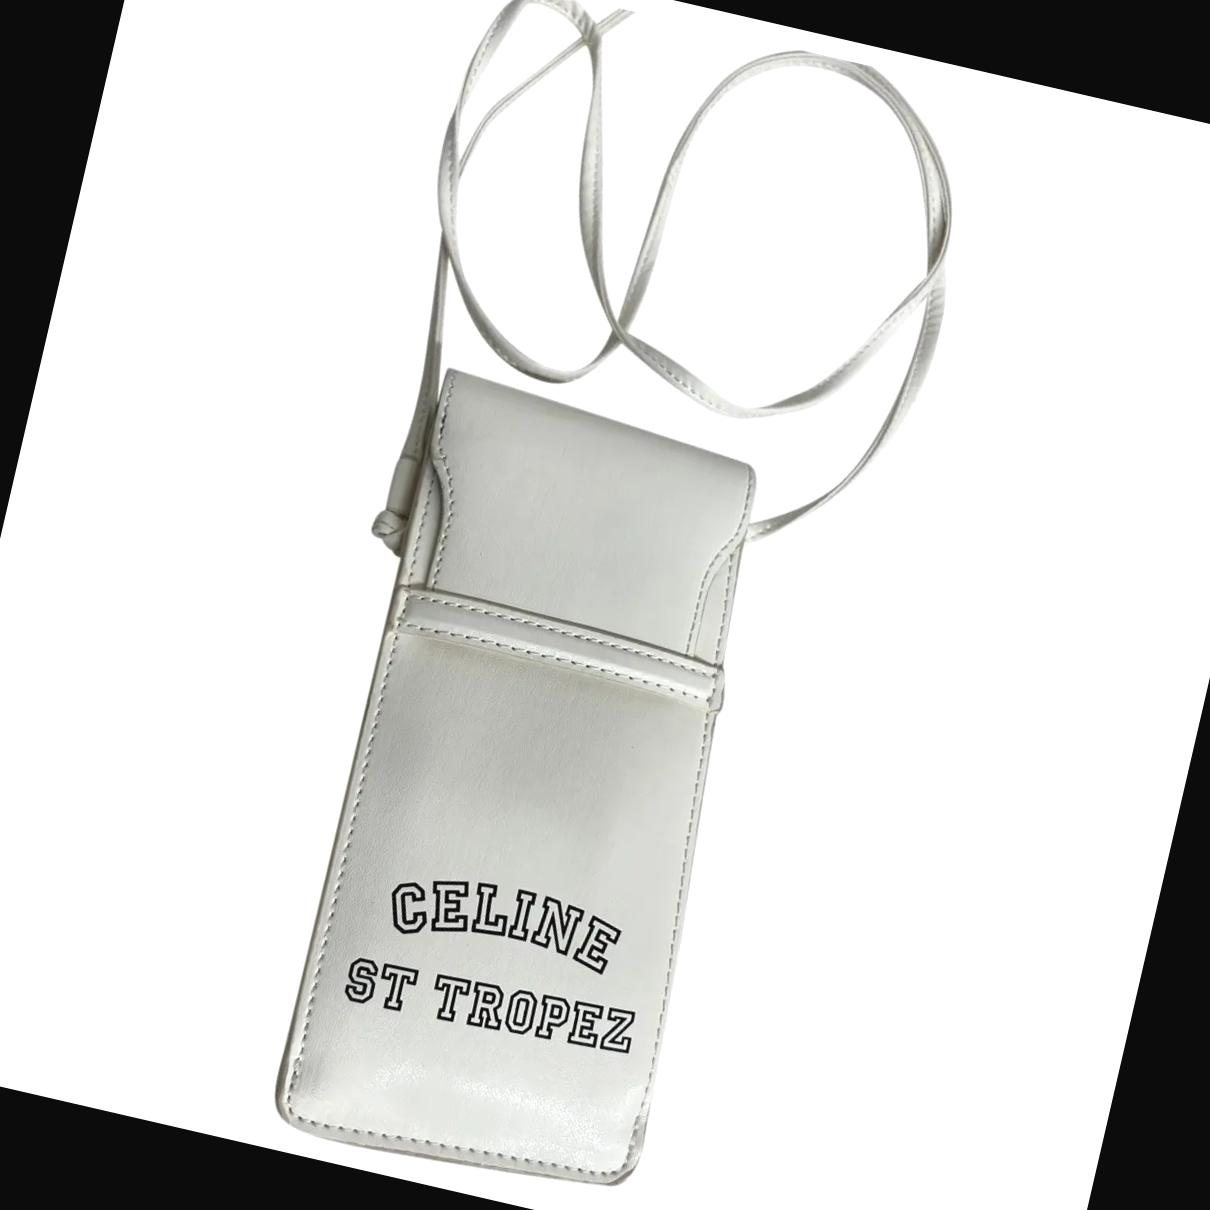CELINE: (384, 858, 627, 982)
